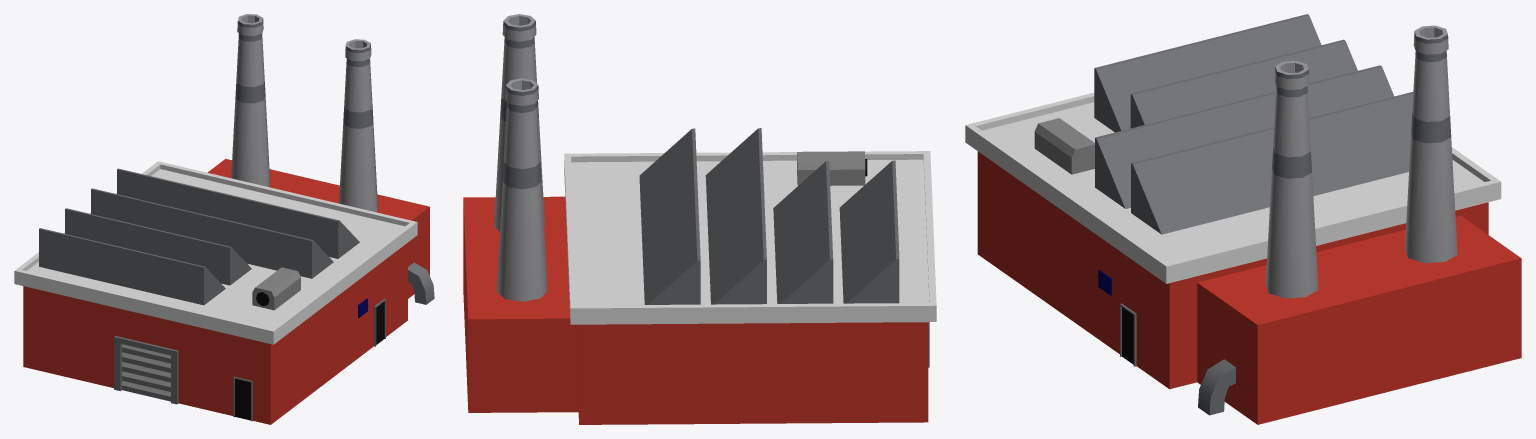
Rendered from factory.fbx.
The picture shows the model from 3 angles, left to right: view 1: azimuth 30°, elevation 25°; view 2: azimuth 150°, elevation 25°; view 3: azimuth 270°, elevation 25°; orthographic projection. The views are drawn at different scales.
Parts seen in each view (by area): view 1: Object, Object.001, Object.004, Object.011, Object.009, Object.006, Object.003, Object.002, Object.010, Object.005; view 2: Object, Object.001, Object.004, Object.006, Object.011, Object.009, Object.003; view 3: Object.001, Object.006, Object, Object.004, Object.011, Object.009, Object.003, Object.010, Object.005.
Boxes of the visible parts, x1,y1,x2,y2 form: Object: (23, 242, 407, 424); Object.001: (39, 168, 359, 305); Object.004: (14, 161, 417, 344); Object.011: (231, 14, 269, 186); Object.009: (339, 39, 377, 212); Object.006: (207, 159, 429, 298); Object.003: (252, 267, 300, 310); Object.002: (233, 376, 252, 421); Object.010: (408, 262, 434, 304); Object.005: (374, 298, 385, 346); Object: (578, 322, 929, 424); Object.001: (639, 128, 899, 304); Object.004: (564, 151, 936, 324); Object.006: (463, 196, 578, 412); Object.011: (497, 78, 547, 301); Object.009: (494, 14, 544, 231); Object.003: (797, 151, 865, 185); Object.001: (1094, 14, 1413, 234); Object.006: (1197, 215, 1521, 424); Object: (977, 151, 1488, 389); Object.004: (965, 92, 1501, 283); Object.011: (1405, 25, 1457, 263); Object.009: (1266, 61, 1318, 298); Object.003: (1034, 118, 1094, 174); Object.010: (1198, 359, 1235, 415); Object.005: (1120, 303, 1136, 366).
Size of the model in its own units: 601 by 349 by 550.
